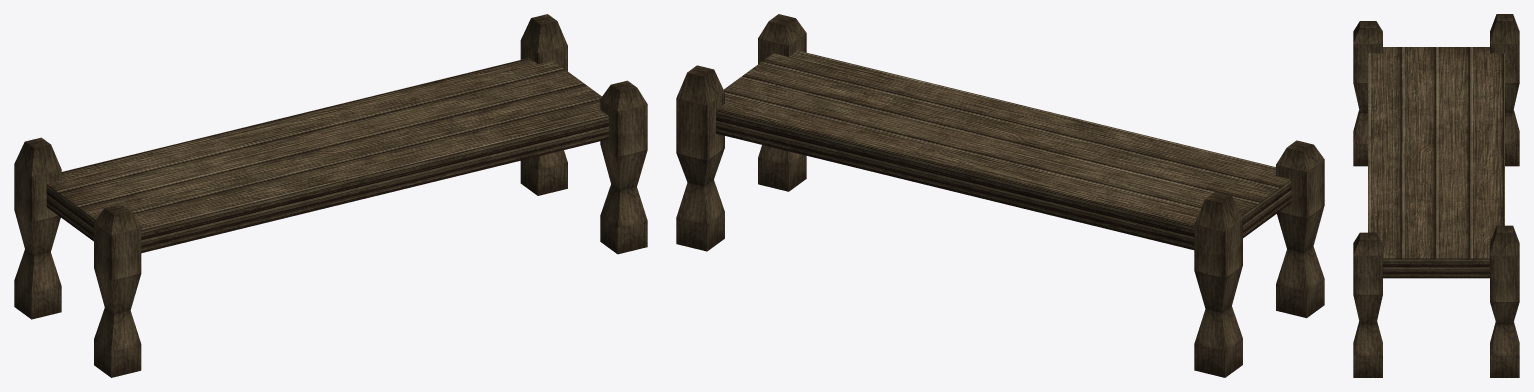
Rendered from BENCH_BROWN_01_KOZA.glb.
3 views of the same model, side by side, from view 1: azimuth 30°, elevation 25°; view 2: azimuth 150°, elevation 25°; view 3: azimuth 270°, elevation 25° (orthographic). The views are drawn at different scales.
Visible parts, largest first — view 1: BENCH_BROWN_01_KOZA; view 2: BENCH_BROWN_01_KOZA; view 3: BENCH_BROWN_01_KOZA.
Part boxes in pixels (x1,y1,x2,y2): BENCH_BROWN_01_KOZA: (14,14,647,377); BENCH_BROWN_01_KOZA: (676,14,1324,377); BENCH_BROWN_01_KOZA: (1353,14,1519,377).
Size of the model in its own units: 2.35 by 0.697 by 0.7375.
2 materials, 2 textured.
